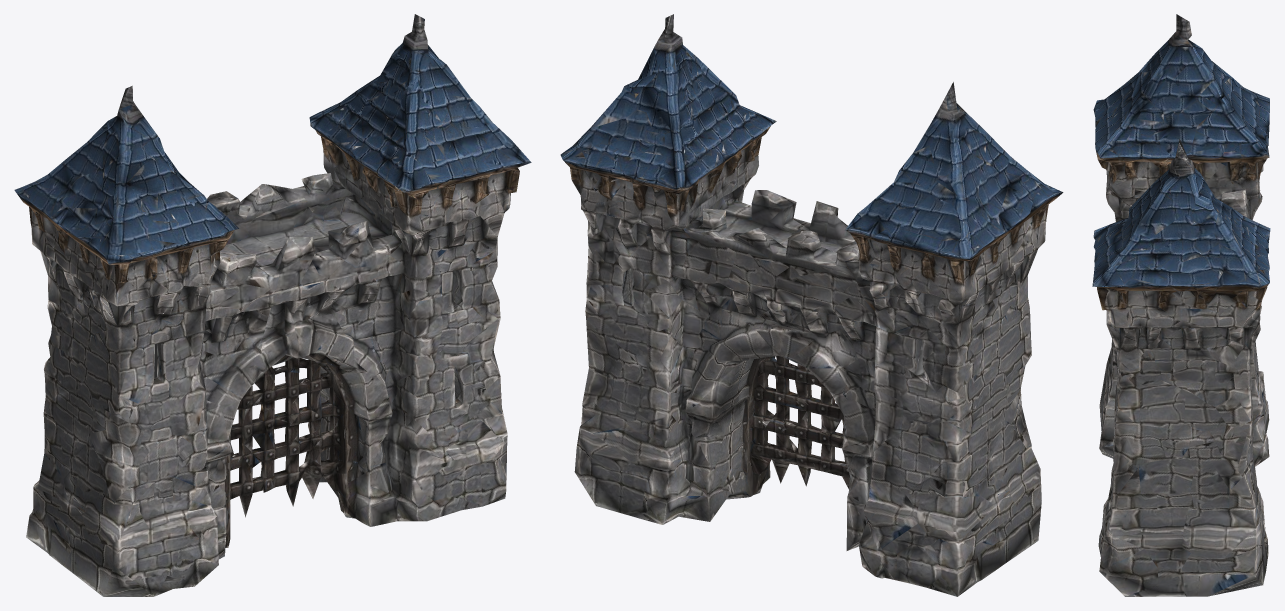
File: fort_m_arctic_gate.glb
3 renders of one model, left to right at view 1: azimuth 30°, elevation 25°; view 2: azimuth 150°, elevation 25°; view 3: azimuth 270°, elevation 25°, orthographic. The views are drawn at different scales.
Visible parts, largest first — view 1: fort_m_arctic_gate; view 2: fort_m_arctic_gate; view 3: fort_m_arctic_gate.
Boxes of the visible parts, x1,y1,x2,y2 form: fort_m_arctic_gate: [14, 14, 531, 596]; fort_m_arctic_gate: [560, 14, 1063, 596]; fort_m_arctic_gate: [1092, 14, 1270, 596].
Bounding box in the file's own units: 1.71 × 1.84 × 0.6891.
Materials: 1 (1 with a texture image).
